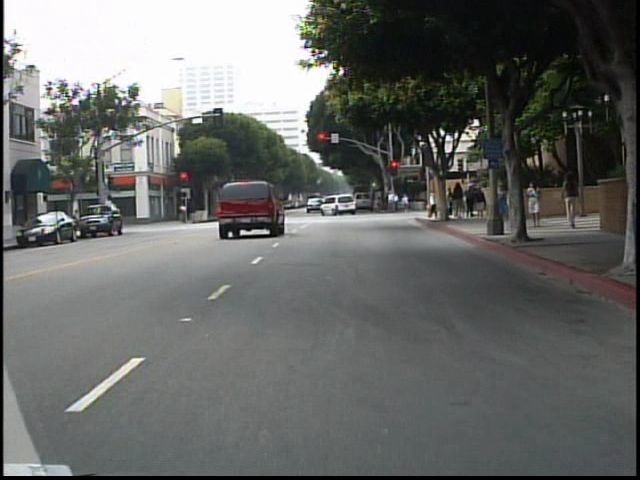person: (558, 169, 583, 233), (525, 179, 542, 230), (506, 178, 522, 230), (450, 177, 467, 223), (425, 188, 440, 221)
